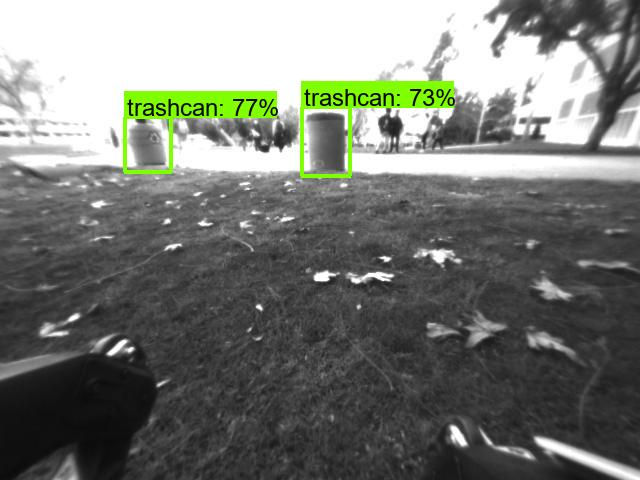trashcan: (303, 114, 345, 176), (127, 121, 170, 171)
